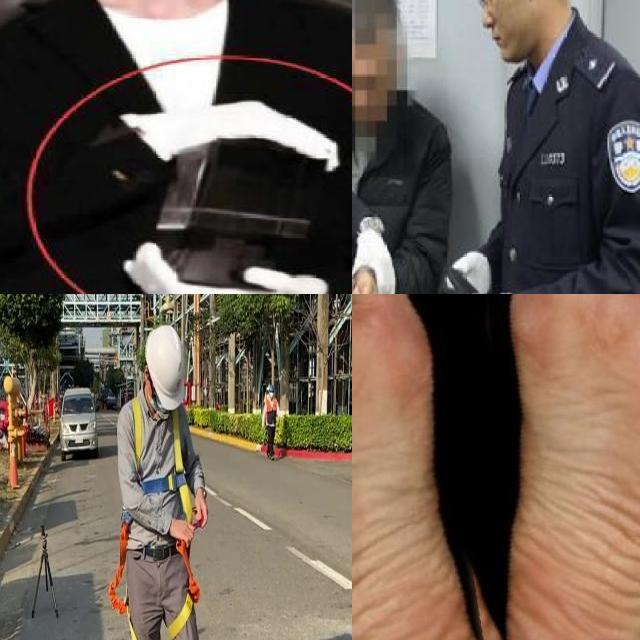Barefoots: (384, 294, 640, 640), (352, 294, 555, 640)
Harness: (132, 398, 193, 522), (108, 517, 139, 640), (168, 541, 201, 640)
face_nomask: (476, 0, 518, 59)
hand_glove: (132, 97, 349, 174), (119, 241, 319, 294), (352, 234, 393, 294), (444, 249, 489, 294)
hand_noglove: (352, 275, 378, 294)
person: (0, 0, 352, 294), (455, 0, 640, 294), (352, 0, 446, 294)
